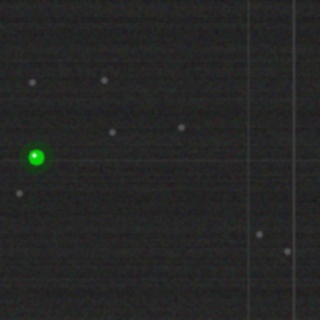green_normal: (26, 147, 46, 167)
